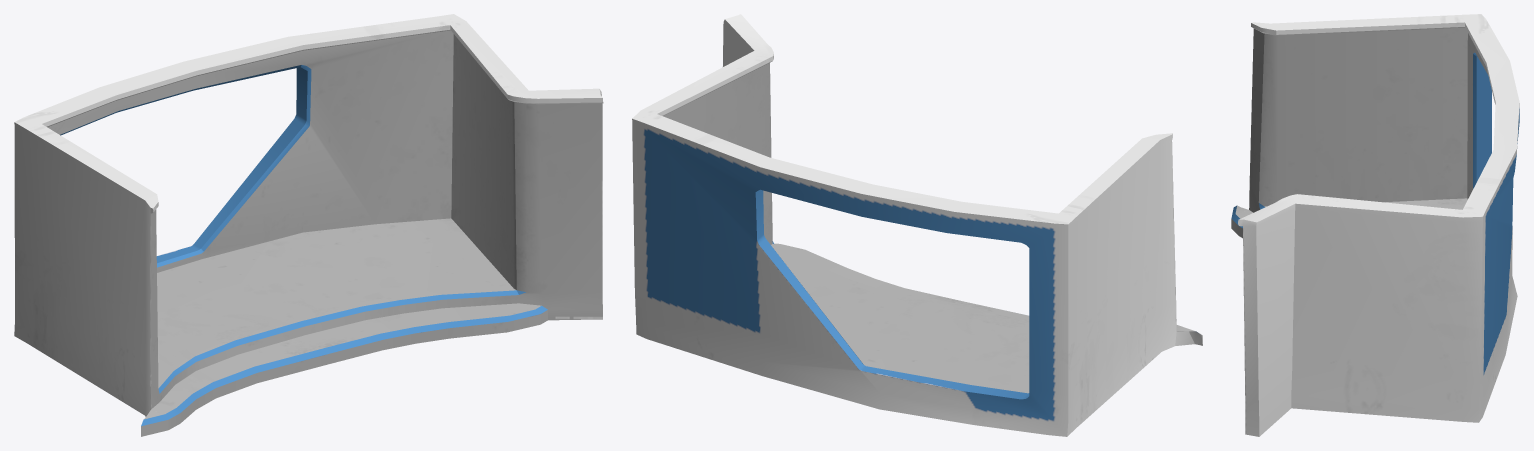
Rendered from jobRoom00.fbx.
3 views of the same model, side by side, from view 1: azimuth 30°, elevation 25°; view 2: azimuth 150°, elevation 25°; view 3: azimuth 270°, elevation 25° (orthographic). The views are drawn at different scales.
Parts seen in each view (by area): view 1: JobRoom00; view 2: JobRoom00; view 3: JobRoom00.
Boxes of the visible parts, left/top/right/bottom form: JobRoom00: left=14, top=14, right=603, bottom=436; JobRoom00: left=632, top=14, right=1202, bottom=436; JobRoom00: left=1231, top=14, right=1519, bottom=436.
Bounding box in the file's own units: 26.37 × 12.02 × 14.69.
